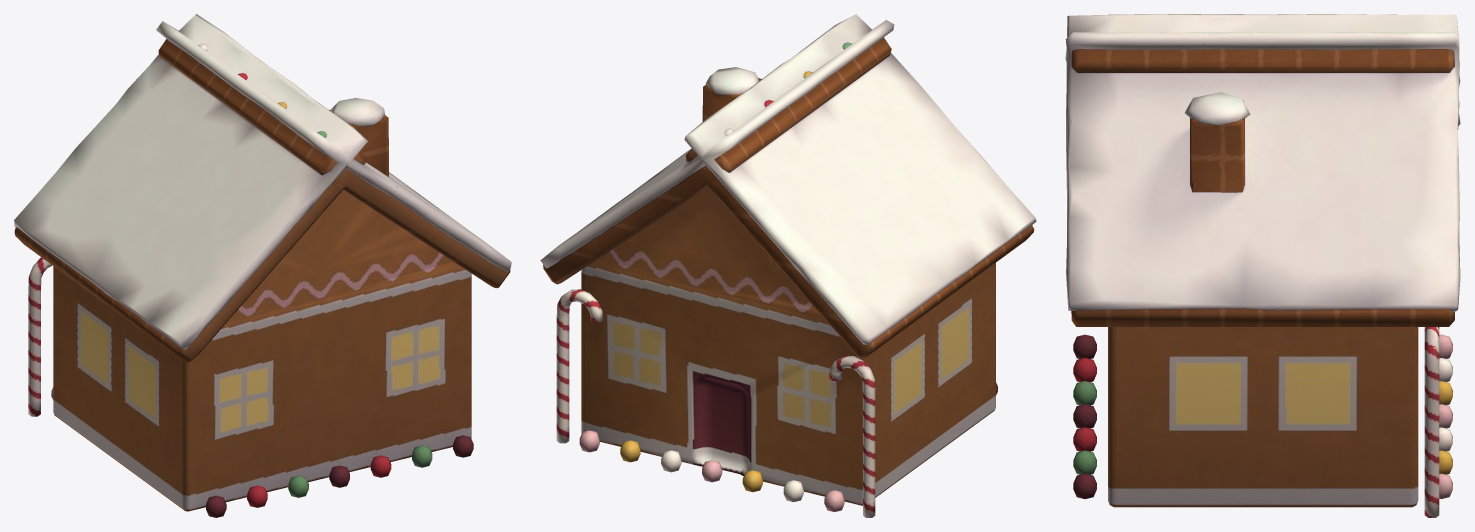
File: gingerbread_house.glb
3 renders of one model, left to right at view 1: azimuth 30°, elevation 25°; view 2: azimuth 150°, elevation 25°; view 3: azimuth 270°, elevation 25°, orthographic. The views are drawn at different scales.
Visible parts, largest first — view 1: Walls, Icing, Roof, Gumdrops, CaneL; view 2: Walls, Icing, Roof, Gumdrops, CaneR, CaneL; view 3: Icing, Walls, Roof, Gumdrops, CaneR.
Boxes of the visible parts, left/top/right/bottom form: Walls: left=53, top=190, right=471, bottom=511; Icing: left=14, top=14, right=511, bottom=349; Roof: left=14, top=39, right=510, bottom=362; Gumdrops: left=51, top=44, right=473, bottom=517; CaneL: left=28, top=257, right=52, bottom=416; Walls: left=581, top=187, right=995, bottom=505; Icing: left=540, top=14, right=1036, bottom=345; Roof: left=543, top=37, right=1034, bottom=358; Gumdrops: left=579, top=42, right=997, bottom=511; CaneR: left=556, top=289, right=602, bottom=443; CaneL: left=829, top=355, right=875, bottom=517; Icing: left=1065, top=14, right=1460, bottom=311; Walls: left=1108, top=327, right=1418, bottom=507; Roof: left=1071, top=49, right=1454, bottom=326; Gumdrops: left=1073, top=334, right=1452, bottom=499; CaneR: left=1424, top=327, right=1439, bottom=517.
Bounding box in the file's own units: 0.9753 × 0.9815 × 0.8655.
Materials: 1 (1 with a texture image).
